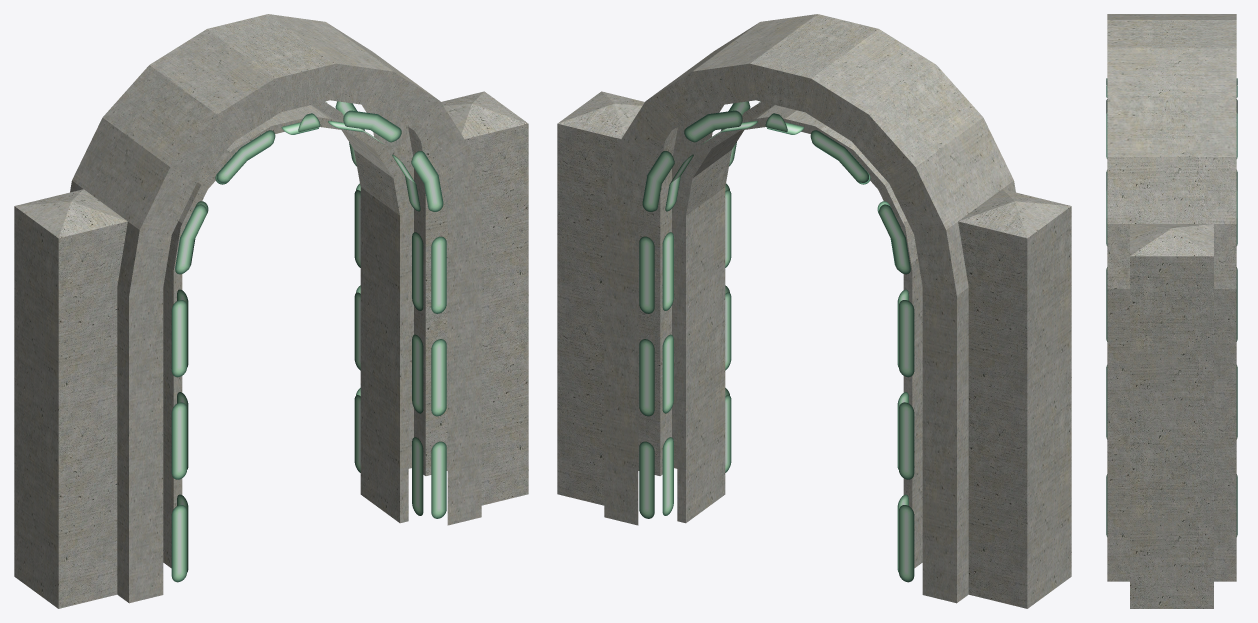
Rendered from thm_corl_imprv_arch_sm_s02_l0.fbx.
The picture shows the model from 3 angles, left to right: view 1: azimuth 30°, elevation 25°; view 2: azimuth 150°, elevation 25°; view 3: azimuth 270°, elevation 25°; orthographic projection. The views are drawn at different scales.
Visible parts, largest first — view 1: mesh_node; view 2: mesh_node; view 3: mesh_node.
Boxes of the visible parts, box(x1,y1,x2,y2) form: mesh_node: box(14, 14, 528, 608); mesh_node: box(557, 14, 1071, 608); mesh_node: box(1106, 14, 1237, 608).
Bounding box in the file's own units: 8 × 7.95 × 2.23.
Materials: 2 (2 with a texture image).
